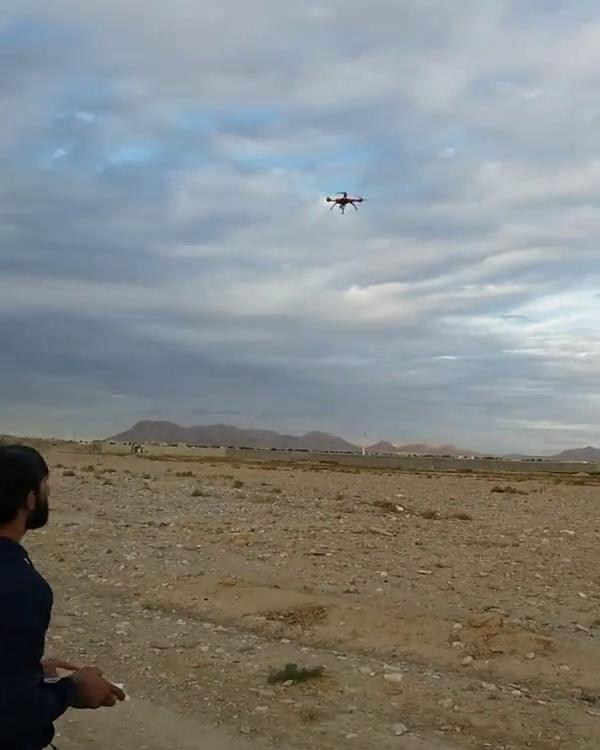drone: (323, 185, 368, 215)
